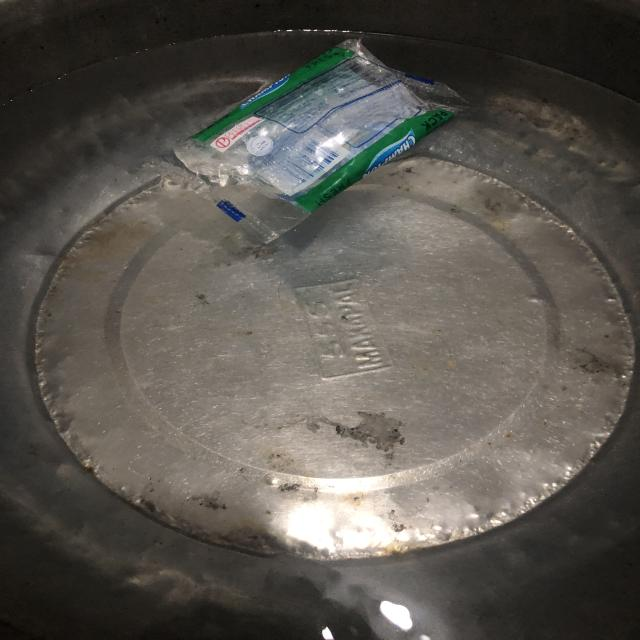Plastic Wrapper: (191, 58, 443, 244)
